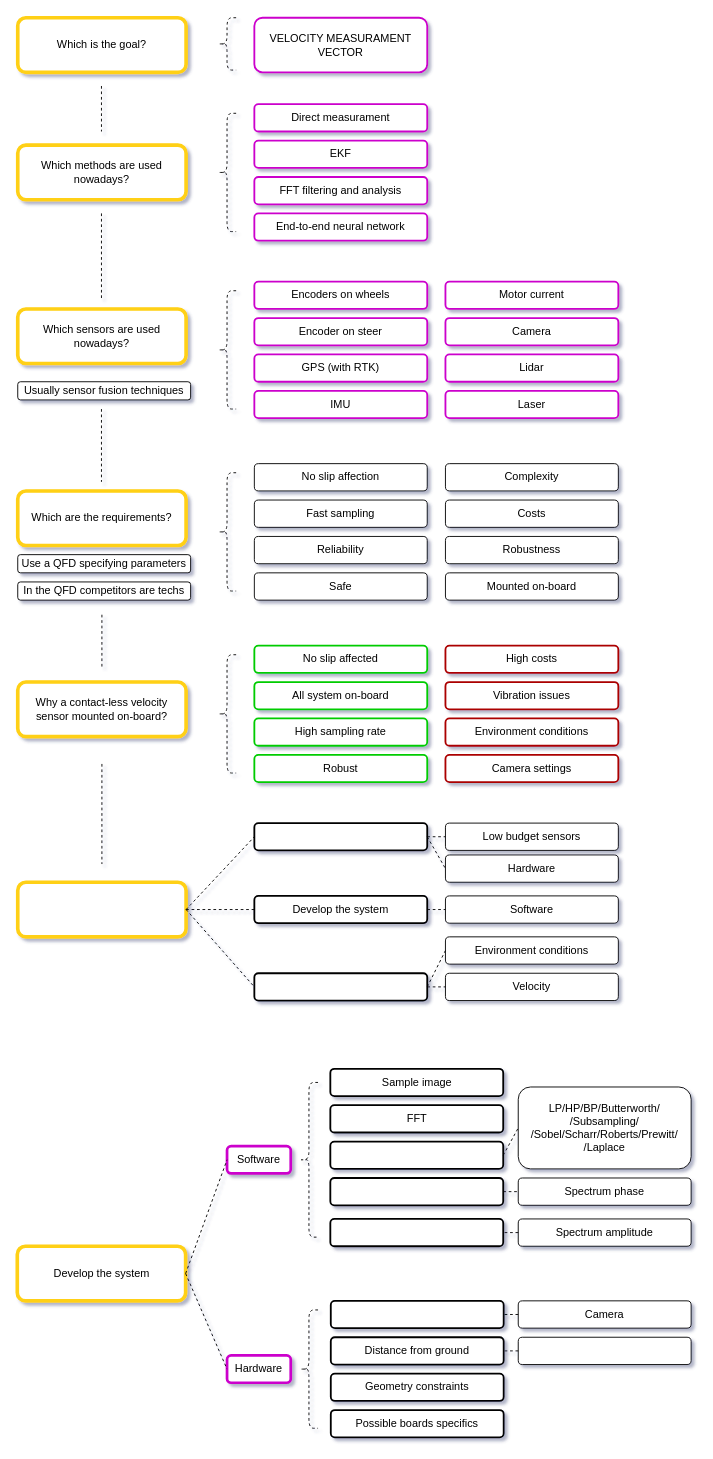
Image size: 713x1459. Some labels were removed from this diagram. Here are the shapes that lost their labels. From the top down, the centre of each, then its label:
At point (340, 836): "Reduce costs".
At point (101, 909): "The detailed goals to improve the contactl-ess velocity measurament".
At point (340, 986): "Auto camera params setting".
At point (416, 1154): "Filtering/Noise removal".
At point (416, 1191): "Velocity direction".
At point (416, 1232): "Velocity amplitude".
At point (416, 1314): "Image".
At point (604, 1350): "Emittor/Receiver or Fixed".
